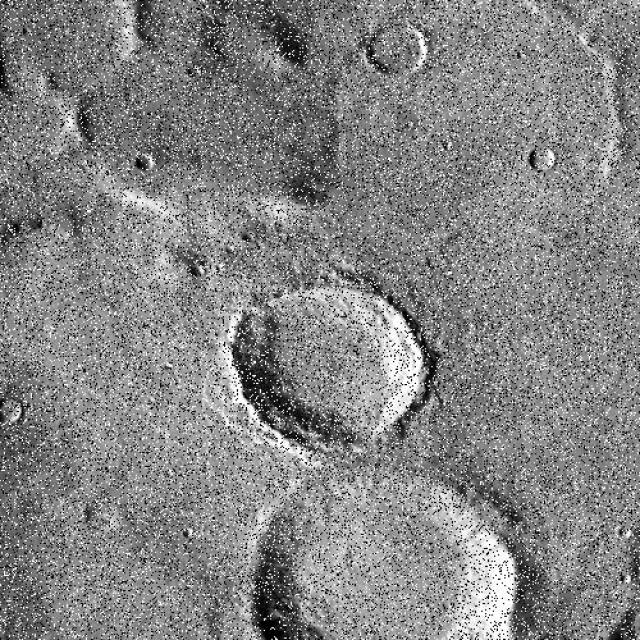crater: (0, 0, 426, 457), (238, 444, 528, 640), (204, 263, 446, 477), (0, 36, 100, 218), (0, 214, 66, 329), (161, 581, 273, 640), (364, 12, 439, 92), (115, 604, 270, 640), (0, 585, 98, 640), (0, 329, 53, 425), (0, 410, 42, 508), (0, 153, 34, 226), (0, 384, 36, 438), (1, 542, 34, 596), (522, 140, 566, 176), (0, 416, 23, 474), (0, 381, 27, 428), (0, 622, 28, 640), (0, 624, 19, 640), (0, 630, 14, 640)
